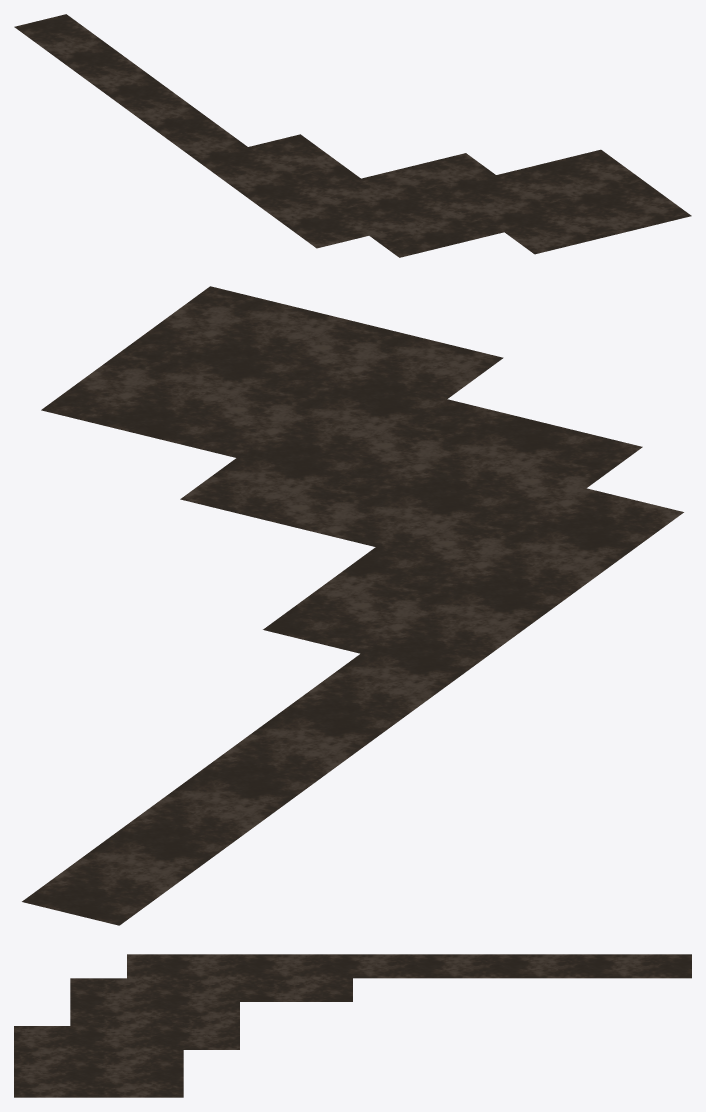
Rendered from floor_3_-2.glb.
3 renders of one model, top to bottom at view 1: azimuth 30°, elevation 25°; view 2: azimuth 150°, elevation 25°; view 3: azimuth 270°, elevation 25°, orthographic. The views are drawn at different scales.
Visible parts, largest first — view 1: floor_3_-2; view 2: floor_3_-2; view 3: floor_3_-2.
Part boxes in pixels (<box>): floor_3_-2: <box>14,14,691,257</box>; floor_3_-2: <box>22,286,683,925</box>; floor_3_-2: <box>14,954,691,1097</box>.
Size of the model in its own units: 24 by 0 by 48.
Materials: 1 (1 with a texture image).
